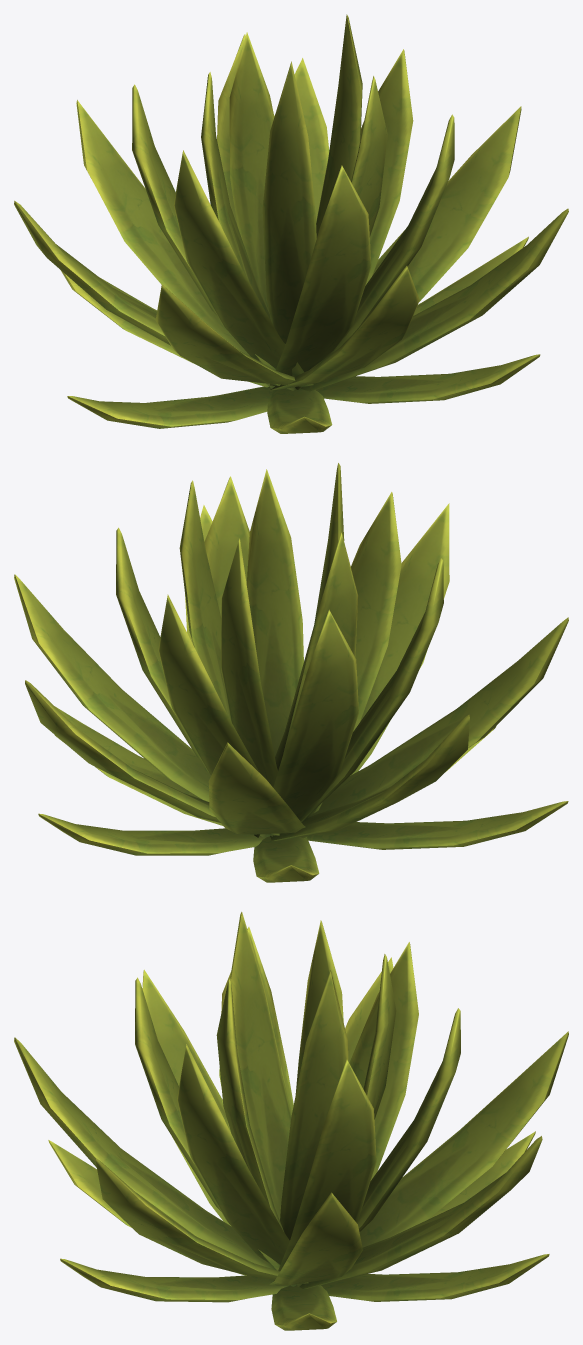
File: DE_Cactus_12.fbx
3 renders of one model, top to bottom at view 1: azimuth 30°, elevation 25°; view 2: azimuth 150°, elevation 25°; view 3: azimuth 270°, elevation 25°, orthographic.
Parts seen in each view (by area): view 1: DE_Cactus_12; view 2: DE_Cactus_12; view 3: DE_Cactus_12.
Boxes of the visible parts, x1,y1,x2,y2 form: DE_Cactus_12: (14,14,568,433); DE_Cactus_12: (14,463,568,882); DE_Cactus_12: (14,912,568,1330).
Bounding box in the file's own units: 5.45 × 3.68 × 5.18.
